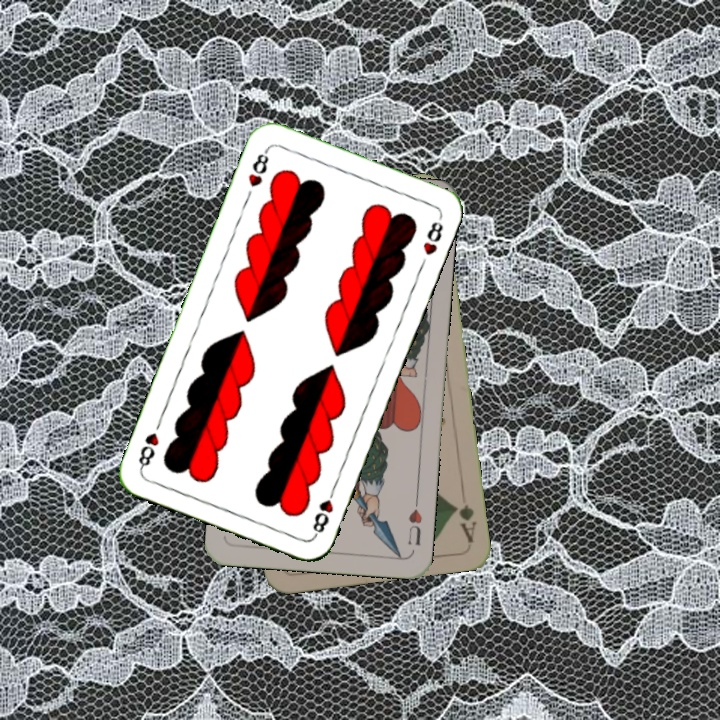GA: (450, 500, 479, 544)
H8: (308, 482, 338, 539), (244, 144, 272, 190)
HU: (404, 494, 425, 548)
